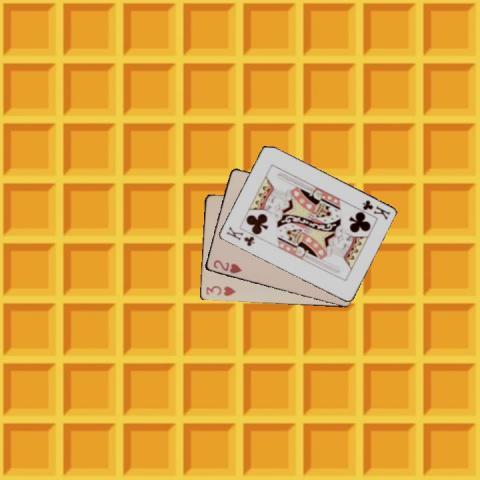2h: (210, 257, 243, 276)
3h: (202, 283, 236, 297)
Kc: (223, 223, 256, 248), (360, 197, 392, 221)
